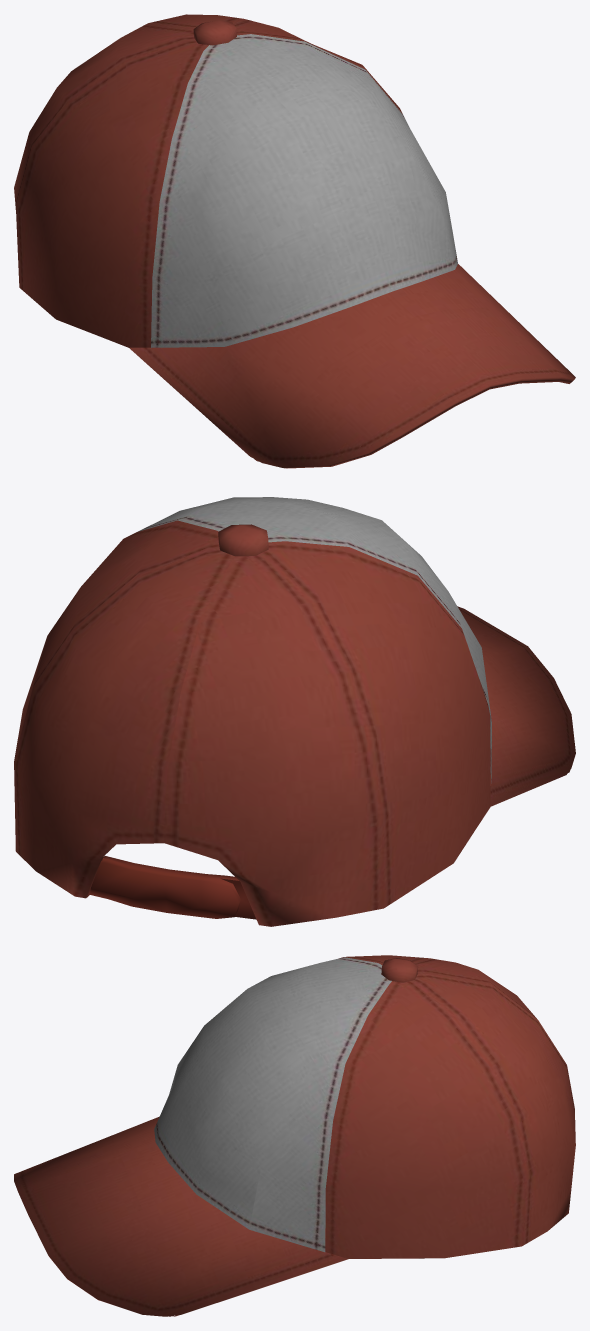
Rendered from capNew.glb.
3 renders of one model, top to bottom at view 1: azimuth 30°, elevation 25°; view 2: azimuth 150°, elevation 25°; view 3: azimuth 270°, elevation 25°, orthographic. The views are drawn at different scales.
Visible parts, largest first — view 1: LOW; view 2: LOW; view 3: LOW.
Boxes of the visible parts, <box> form: LOW: <box>14,14,575,468</box>; LOW: <box>14,497,575,926</box>; LOW: <box>14,955,575,1316</box>.
Size of the model in its own units: 2.97 by 2.24 by 4.29.
Materials: 1 (1 with a texture image).
